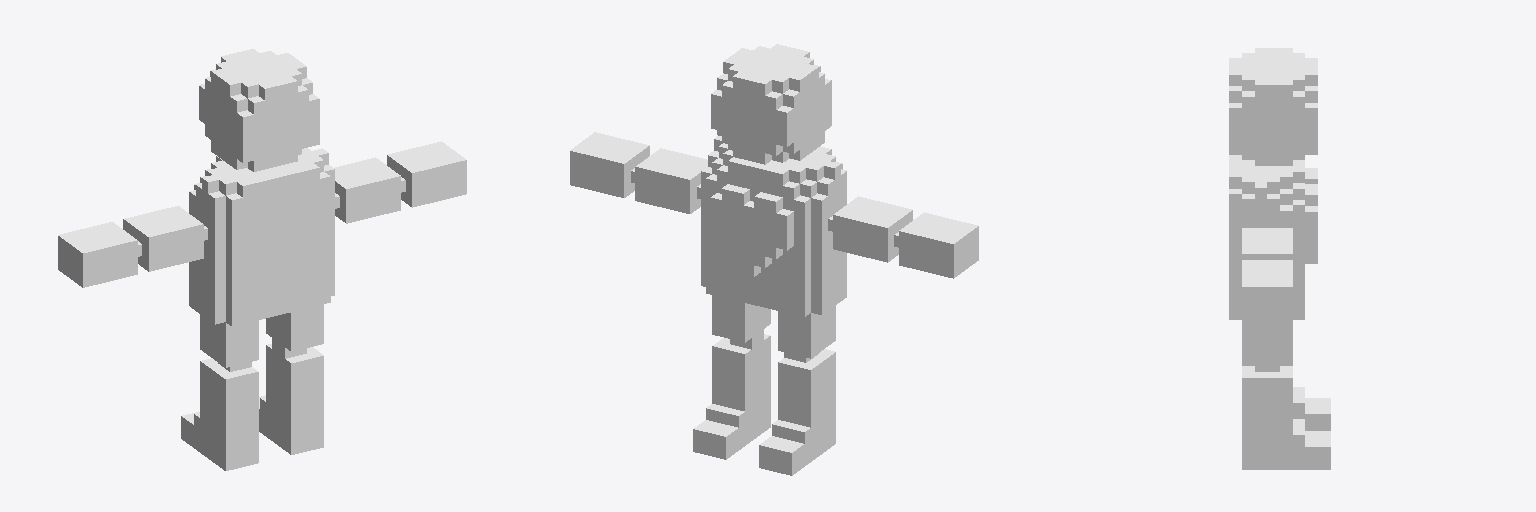
Rendered from RainBowRobotGuy.obj.
3 views of the same model, side by side, from view 1: azimuth 30°, elevation 25°; view 2: azimuth 150°, elevation 25°; view 3: azimuth 270°, elevation 25° (orthographic).
Bounding box in the file's own units: 35 × 33 × 8.